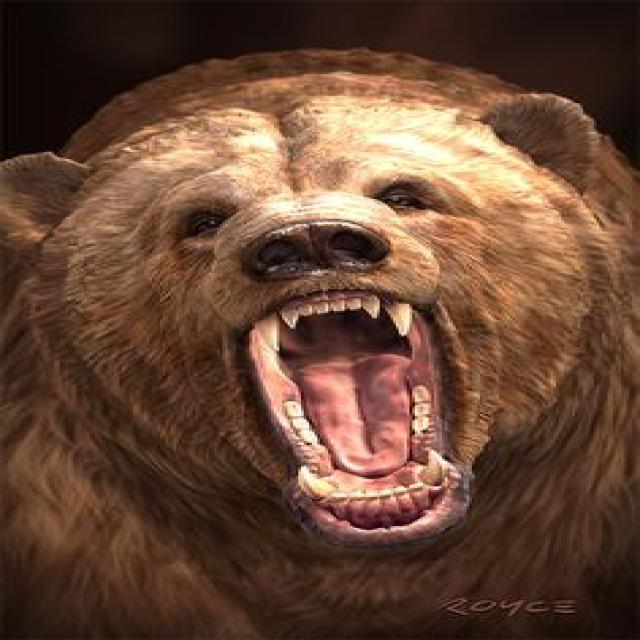Carnivorous: (0, 47, 640, 640)
